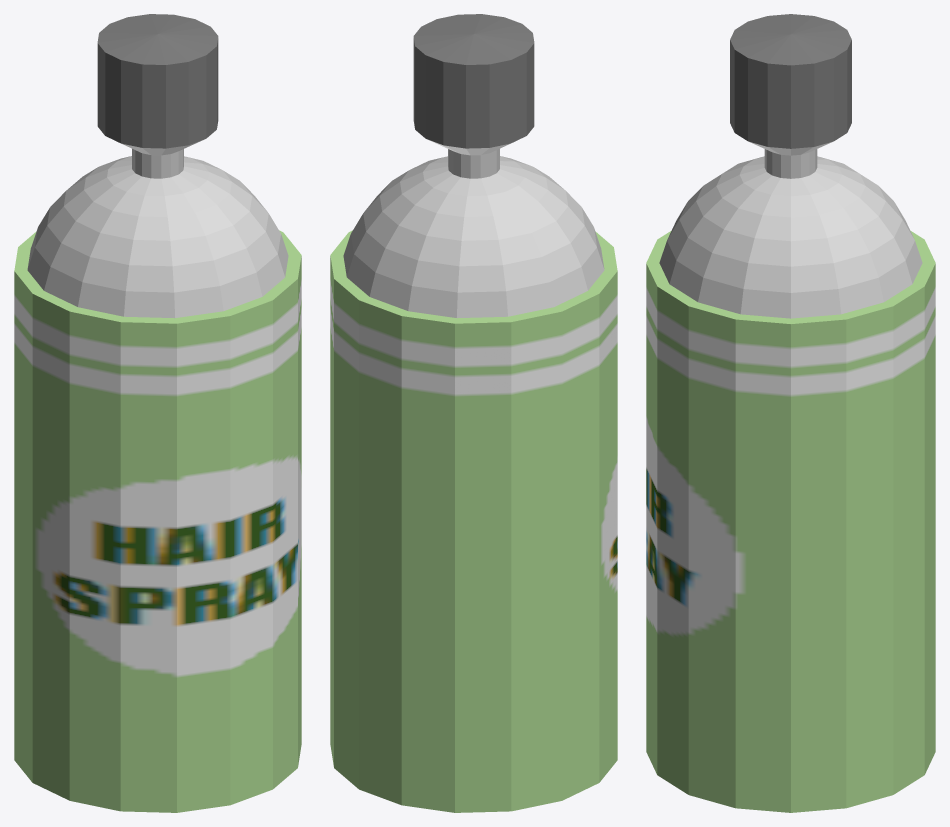
File: CollectableHairspray.fbx
3 views of the same model, side by side, from view 1: azimuth 30°, elevation 25°; view 2: azimuth 150°, elevation 25°; view 3: azimuth 270°, elevation 25° (orthographic).
Parts seen in each view (by area): view 1: Hairspray; view 2: Hairspray; view 3: Hairspray.
Boxes of the visible parts, x1=… form: Hairspray: x1=14, y1=14, x2=301, y2=812; Hairspray: x1=330, y1=14, x2=617, y2=812; Hairspray: x1=646, y1=14, x2=935, y2=812.
Size of the model in its own units: 10.96 by 29.96 by 10.96.
